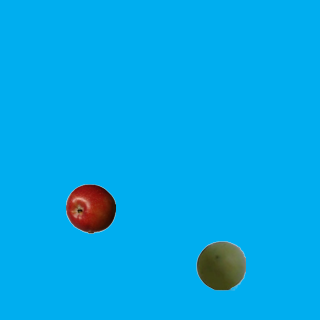Apple Braeburn: (65, 183, 115, 233)
Grape White 4: (195, 240, 245, 290)
